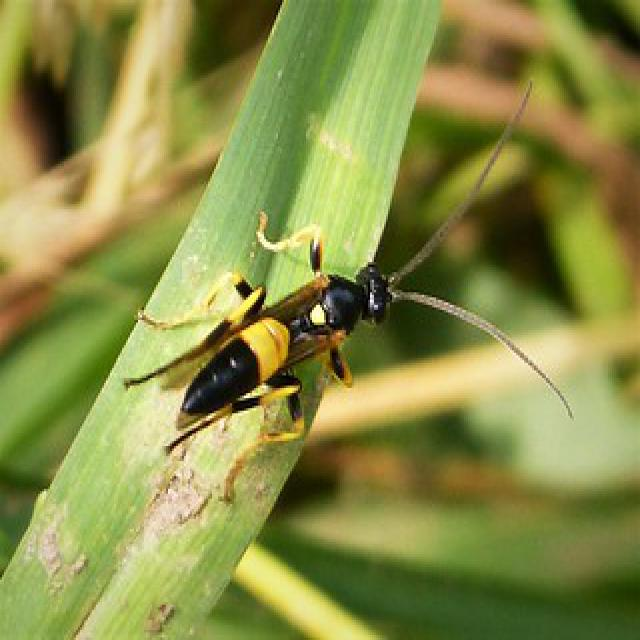Guepe: (133, 73, 581, 473)
